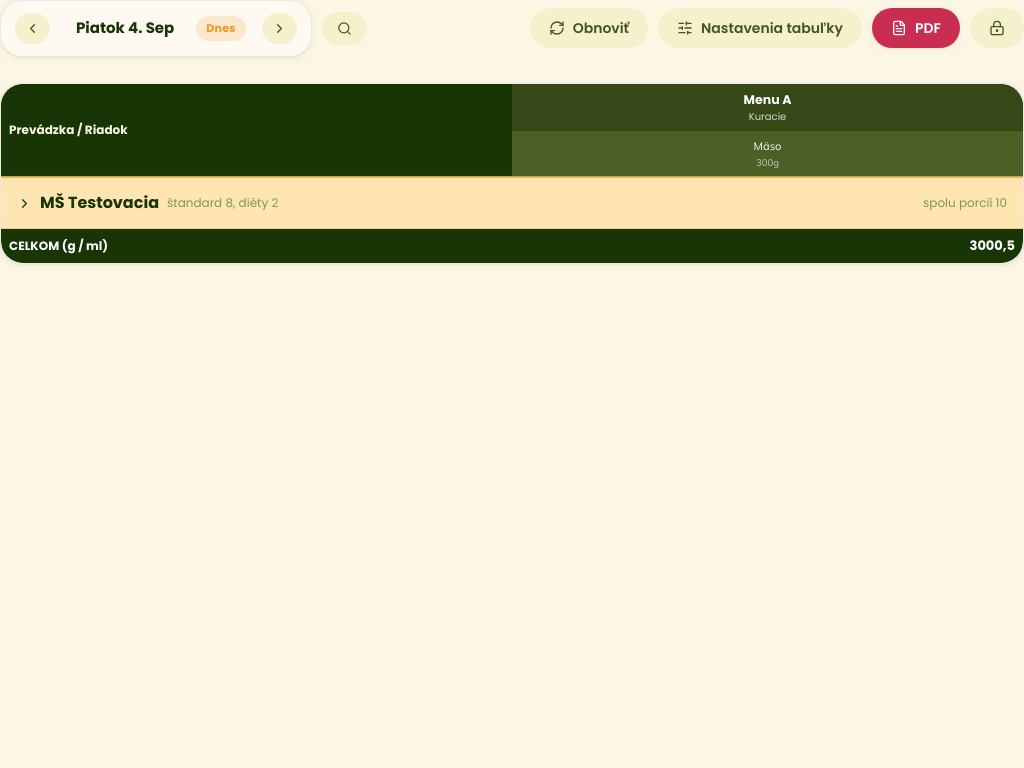
Scenario: Nastavenia tabuľky (2.9.2026) › 'Zobraziť všetko rozbalené' sends expanded=1 a skutočne rozbalí každého klienta bez klikania
Expected: the text "MŠ Testovacia" is shown, [40,191,159,214]
Expected: the text "Škôlka - Obed Menu A" is not shown
Click the button "Nastavenia tabuľky" at (760, 28), box [658,8,862,48]
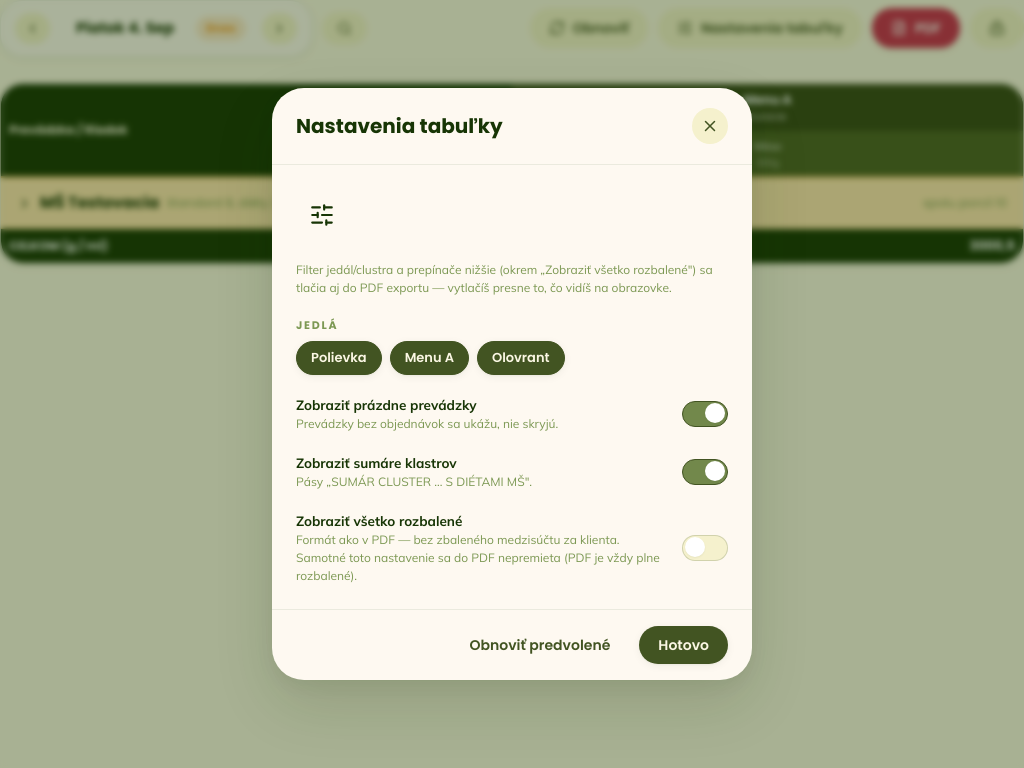
Click the button named "Zobraziť všetko rozbalené" at (705, 548), box [682,535,728,561]
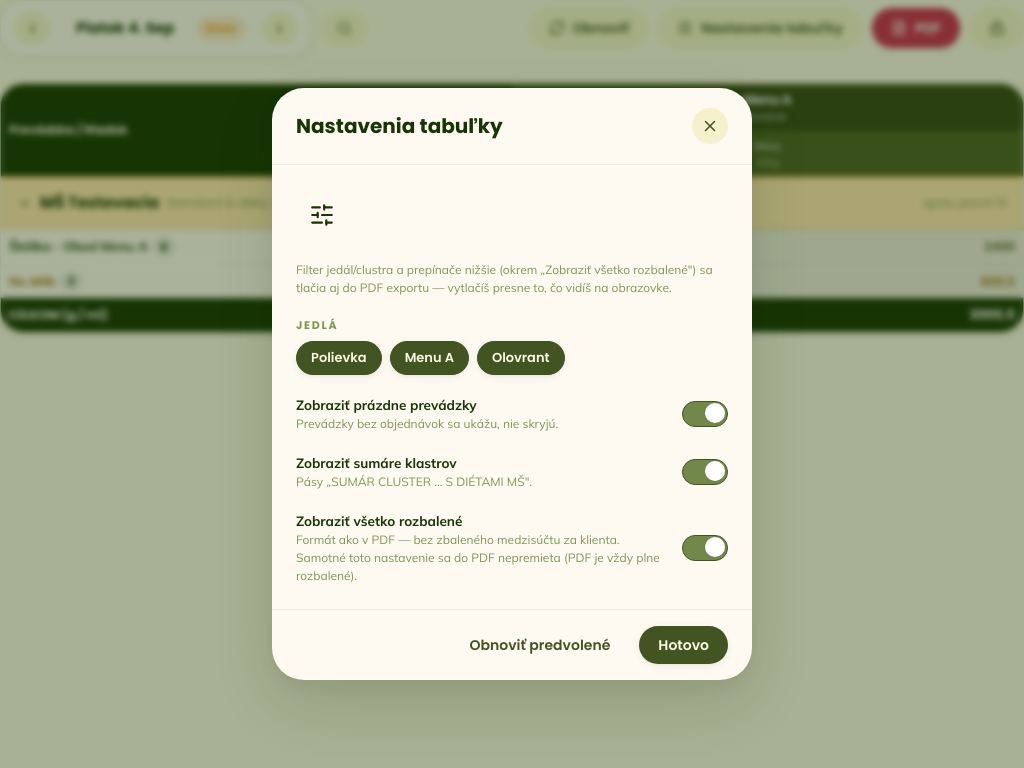
Now the text "Škôlka - Obed Menu A" is shown, box [9,237,148,256]
